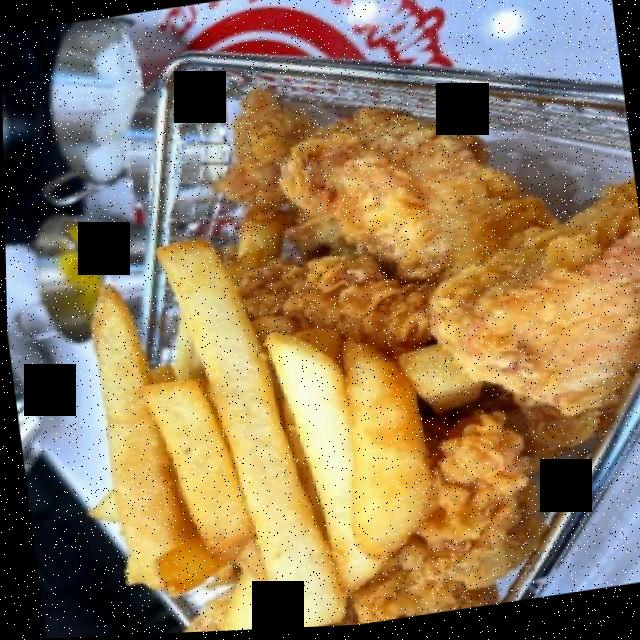Frango: (206, 46, 640, 633)
